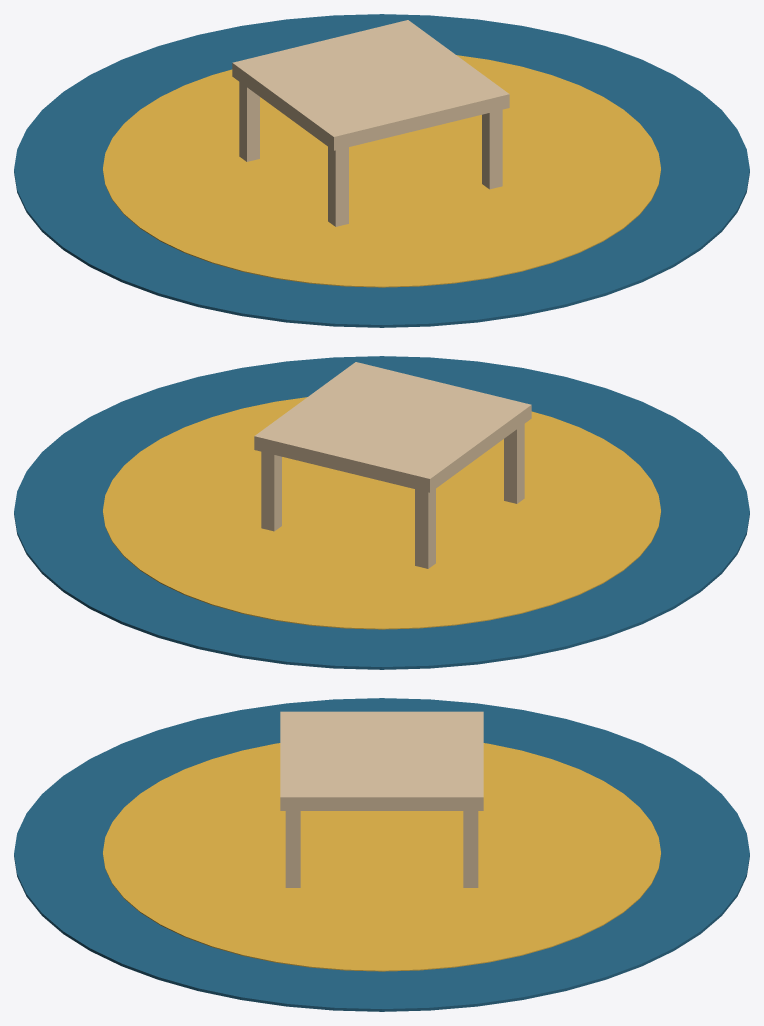
Rendered from shop-low-table.glb.
The picture shows the model from 3 angles, top to bottom: view 1: azimuth 30°, elevation 25°; view 2: azimuth 150°, elevation 25°; view 3: azimuth 270°, elevation 25°; orthographic projection.
Visible parts, largest first — view 1: RugInner, Rug, LowTable, LowTableLeg, LowTableLeg.002, LowTableLeg.001; view 2: RugInner, Rug, LowTable, LowTableLeg.001, LowTableLeg.003, LowTableLeg; view 3: RugInner, Rug, LowTable, LowTableLeg.002, LowTableLeg.003.
Part boxes in pixels (left/top/right/bottom): RugInner: left=102, top=55, right=661, bottom=287; Rug: left=14, top=14, right=749, bottom=327; LowTable: left=232, top=20, right=509, bottom=150; LowTableLeg: left=328, top=147, right=348, bottom=226; LowTableLeg.002: left=482, top=109, right=502, bottom=189; LowTableLeg.001: left=239, top=82, right=259, bottom=161; RugInner: left=102, top=397, right=661, bottom=629; Rug: left=14, top=356, right=749, bottom=669; LowTable: left=254, top=362, right=531, bottom=492; LowTableLeg.001: left=415, top=489, right=435, bottom=568; LowTableLeg.003: left=261, top=451, right=281, bottom=531; LowTableLeg: left=504, top=424, right=524, bottom=503; RugInner: left=102, top=743, right=661, bottom=971; Rug: left=14, top=698, right=749, bottom=1011; LowTable: left=280, top=711, right=483, bottom=810; LowTableLeg.002: left=285, top=811, right=300, bottom=887; LowTableLeg.003: left=463, top=811, right=478, bottom=887.
Bounding box in the file's own units: 2.9 × 0.42 × 2.9.
